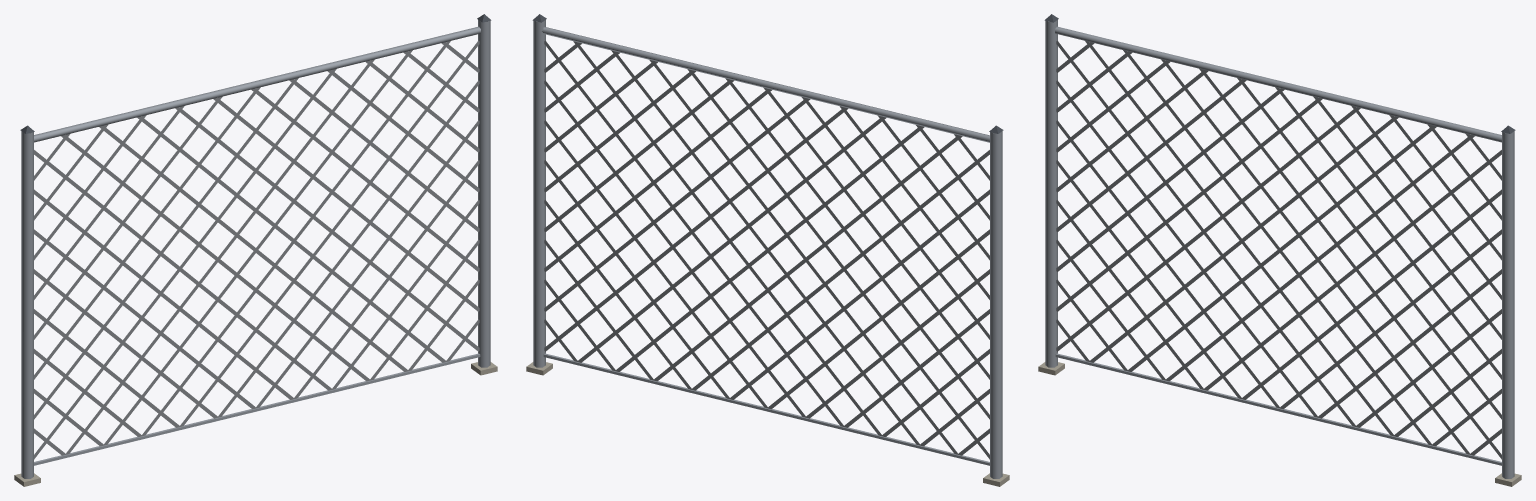
File: fence_chain.glb
3 renders of one model, left to right at view 1: azimuth 30°, elevation 25°; view 2: azimuth 150°, elevation 25°; view 3: azimuth 330°, elevation 25°, orthographic.
Visible parts, largest first — view 1: fence_chain__mesh; view 2: fence_chain__mesh; view 3: fence_chain__mesh.
Boxes of the visible parts, x1,y1,x2,y2 form: fence_chain__mesh: [14, 14, 497, 486]; fence_chain__mesh: [526, 14, 1009, 486]; fence_chain__mesh: [1038, 14, 1521, 486].
Bounding box in the file's own units: 3.11 × 2.23 × 0.11.
Materials: 1 (1 with a texture image).
